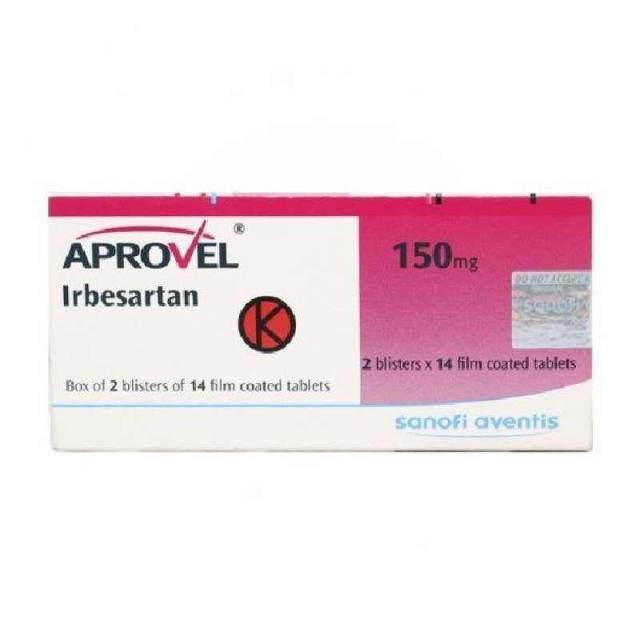drug-name: (60, 229, 242, 273)
